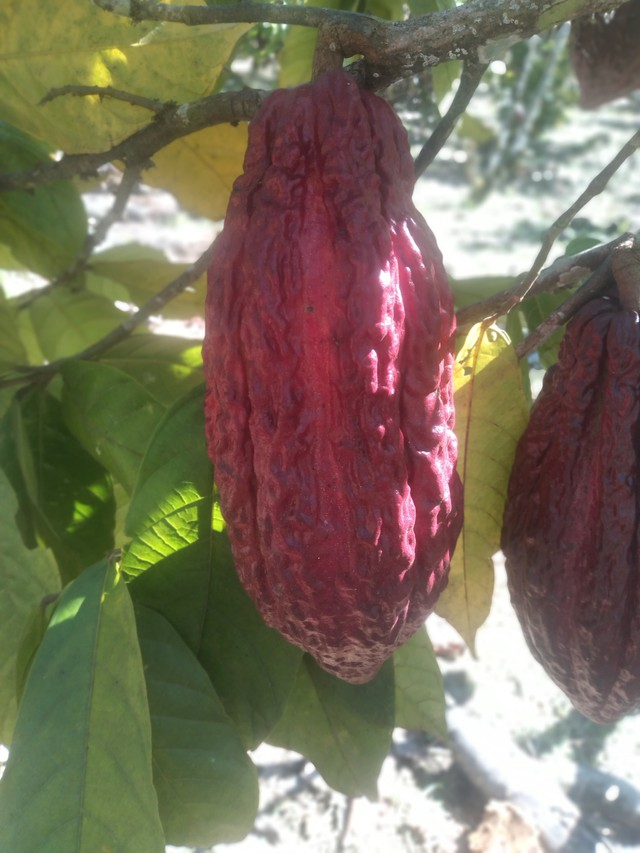Health: (184, 63, 480, 699)
